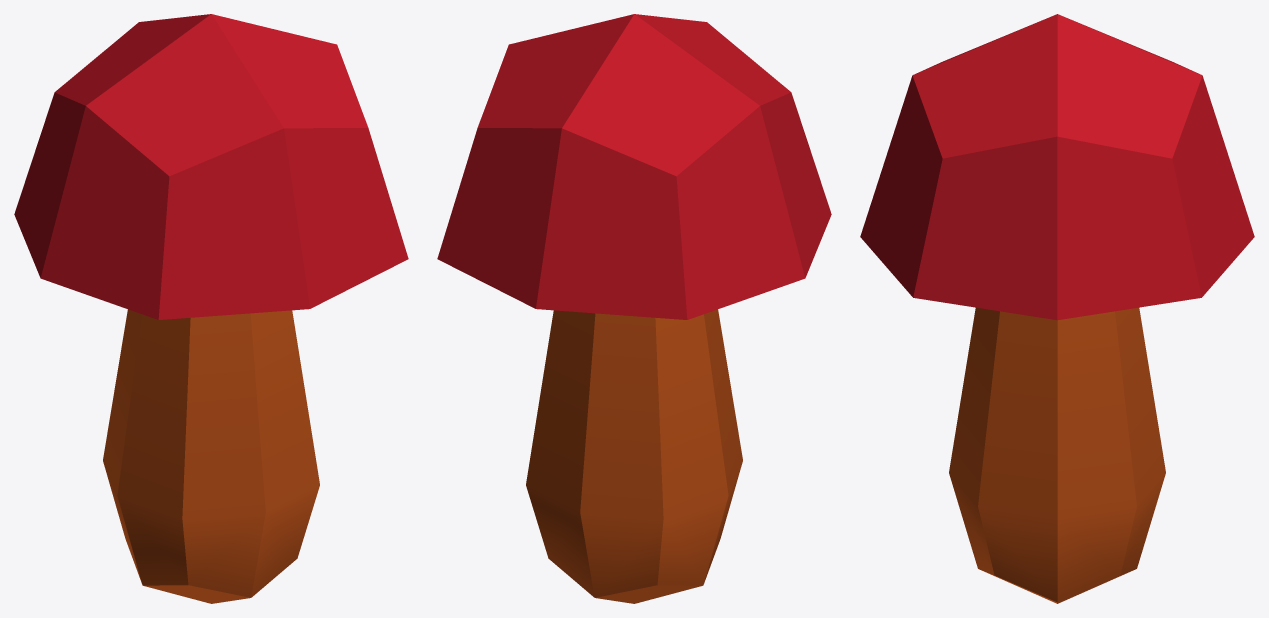
File: Mesh_Mushroom_01.fbx
3 views of the same model, side by side, from view 1: azimuth 30°, elevation 25°; view 2: azimuth 150°, elevation 25°; view 3: azimuth 270°, elevation 25° (orthographic).
Parts seen in each view (by area): view 1: MESH_Mushroom_01; view 2: MESH_Mushroom_01; view 3: MESH_Mushroom_01.
Boxes of the visible parts, box(x1,y1,x2,y2) form: MESH_Mushroom_01: box(14, 14, 408, 603); MESH_Mushroom_01: box(437, 14, 831, 603); MESH_Mushroom_01: box(860, 14, 1254, 603).
Bounding box in the file's own units: 0.09 × 0.1484 × 0.09.
